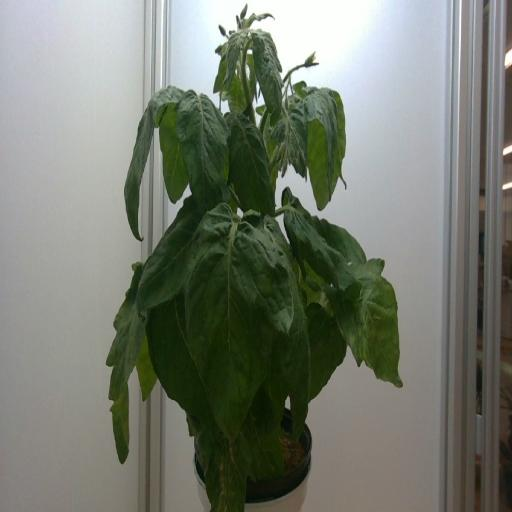Tomato-Leaves-Cupboard-: (188, 191, 295, 434), (258, 213, 313, 461), (326, 257, 410, 409), (142, 292, 220, 442), (130, 203, 219, 314), (281, 185, 371, 292), (101, 252, 156, 397), (176, 85, 230, 218), (224, 110, 279, 229), (191, 411, 250, 512), (304, 78, 347, 208), (122, 80, 151, 247), (306, 301, 347, 414), (156, 102, 193, 208), (249, 22, 284, 118), (244, 416, 289, 489), (105, 376, 138, 469), (280, 94, 310, 178), (134, 310, 158, 406), (211, 31, 244, 91), (152, 79, 184, 119), (227, 63, 249, 119), (240, 55, 259, 95)
